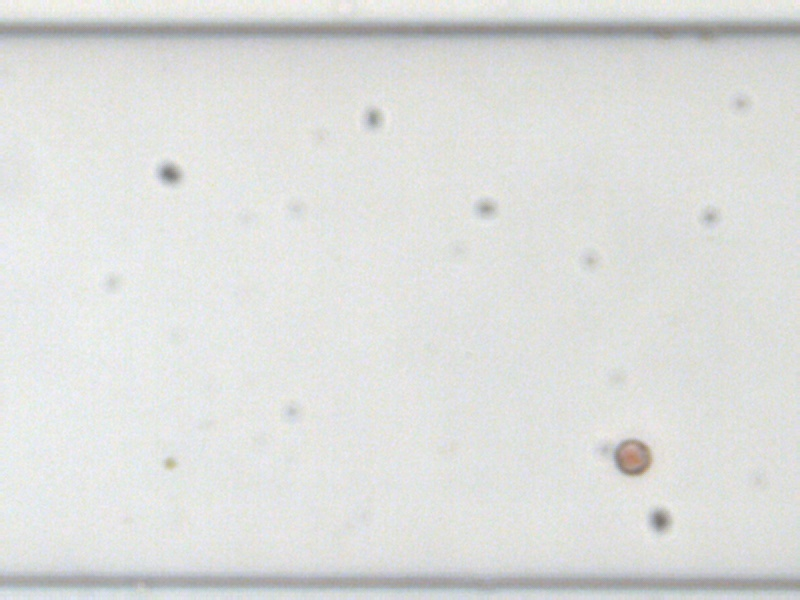Chlorella: (160, 455, 177, 470)
Porphyridium: (612, 435, 650, 476)
